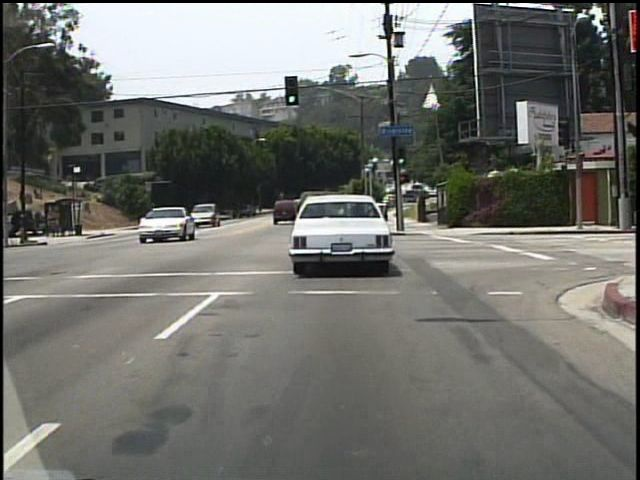person: (155, 209, 163, 228)
